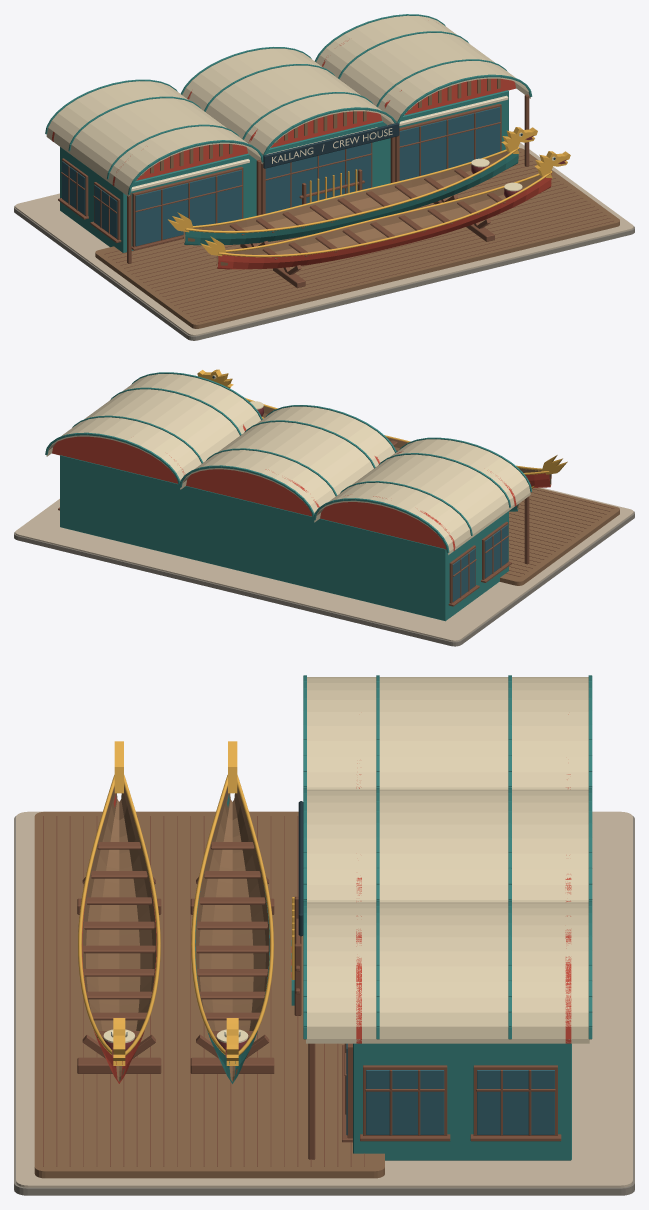
3 renders of one model, top to bottom at view 1: azimuth 30°, elevation 25°; view 2: azimuth 150°, elevation 25°; view 3: azimuth 270°, elevation 25°, orthographic. The views are drawn at different scales.
Parts seen in each view (by area): view 1: Scalloped Canopy, Slip Deck, Crew Clubhouse, Training Hulls, Paddle Rack; view 2: Crew Clubhouse, Scalloped Canopy, Slip Deck, Training Hulls; view 3: Slip Deck, Scalloped Canopy, Training Hulls, Crew Clubhouse, Paddle Rack.
Part boxes in pixels (x1=…): Scalloped Canopy: x1=45, y1=14, x2=532, y2=263; Slip Deck: x1=14, y1=143, x2=634, y2=340; Crew Clubhouse: x1=52, y1=24, x2=515, y2=252; Training Hulls: x1=168, y1=127, x2=570, y2=269; Paddle Rack: x1=299, y1=169, x2=364, y2=204; Crew Clubhouse: x1=52, y1=424, x2=516, y2=621; Scalloped Canopy: x1=45, y1=372, x2=532, y2=564; Slip Deck: x1=14, y1=487, x2=634, y2=646; Training Hulls: x1=197, y1=369, x2=567, y2=511; Slip Deck: x1=14, y1=811, x2=634, y2=1195; Scalloped Canopy: x1=303, y1=675, x2=592, y2=1159; Training Hulls: x1=78, y1=741, x2=273, y2=1083; Crew Clubhouse: x1=298, y1=714, x2=571, y2=1160; Paddle Rack: x1=291, y1=896, x2=301, y2=1015.
Bounding box in the file's own units: 25.9 × 6.33 × 18.1.
